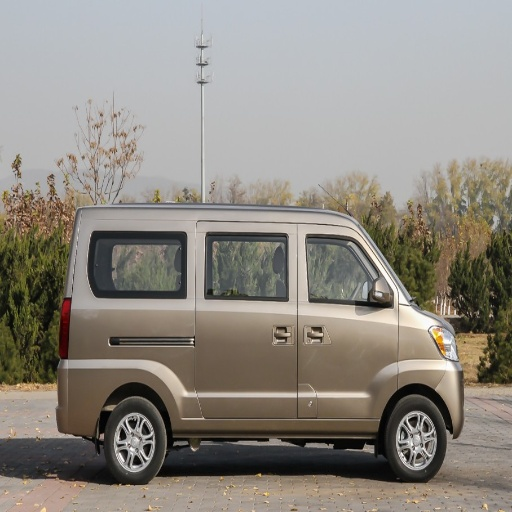trunk: (65, 309, 194, 433)
